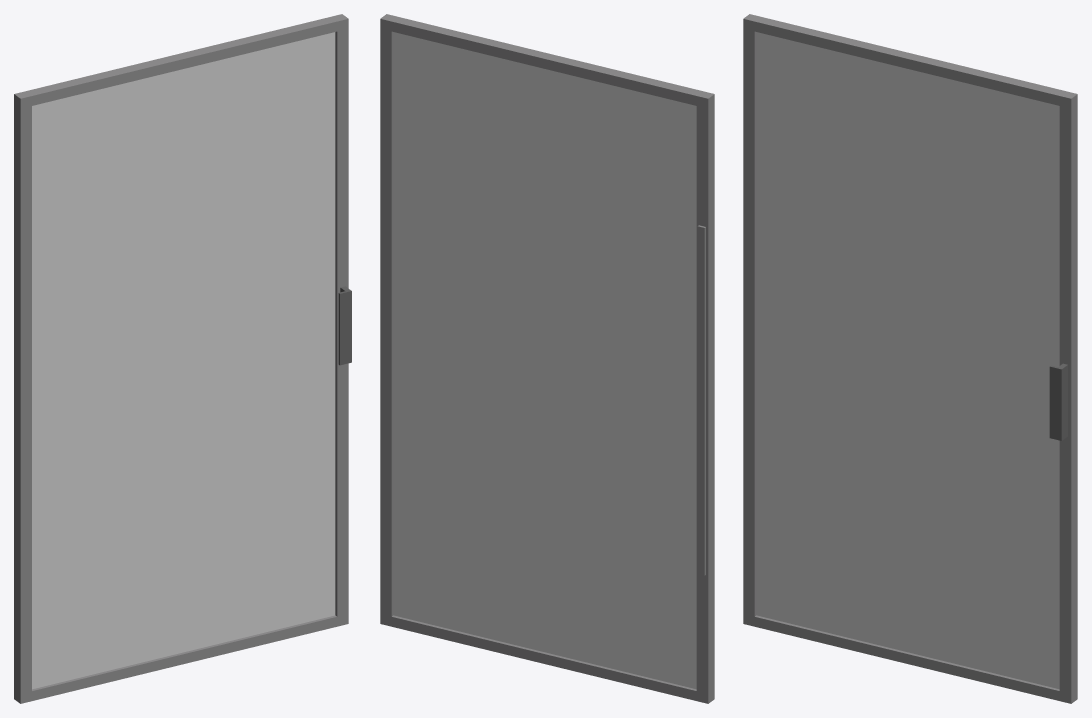
The model's file is SM_Int_Cabinet01_1_Door02.obj.
3 renders of one model, left to right at view 1: azimuth 30°, elevation 25°; view 2: azimuth 150°, elevation 25°; view 3: azimuth 330°, elevation 25°, orthographic.
Visible parts, largest first — view 1: SM_Int_Cabinet01_1_Door02_MI_GlassClear01, SM_Int_Cabinet01_1_Door02_MI_AtlasSchool01A; view 2: SM_Int_Cabinet01_1_Door02_MI_GlassClear01, SM_Int_Cabinet01_1_Door02_MI_AtlasSchool01A; view 3: SM_Int_Cabinet01_1_Door02_MI_GlassClear01, SM_Int_Cabinet01_1_Door02_MI_AtlasSchool01A.
Part boxes in pixels (box(x1,y1,x2,y2)): SM_Int_Cabinet01_1_Door02_MI_GlassClear01: box(32, 32, 335, 689); SM_Int_Cabinet01_1_Door02_MI_AtlasSchool01A: box(14, 14, 351, 703); SM_Int_Cabinet01_1_Door02_MI_GlassClear01: box(393, 32, 696, 689); SM_Int_Cabinet01_1_Door02_MI_AtlasSchool01A: box(380, 14, 714, 703); SM_Int_Cabinet01_1_Door02_MI_GlassClear01: box(756, 32, 1059, 689); SM_Int_Cabinet01_1_Door02_MI_AtlasSchool01A: box(743, 14, 1077, 703).
Bounding box in the file's own units: 0.7274 × 1.28 × 0.0546.
Materials: 2 (1 with a texture image).
